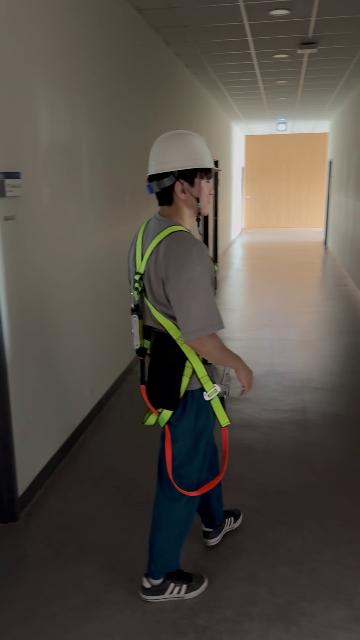helmet_worn: (145, 129, 222, 175)
shoe_not_worn: (140, 569, 207, 601), (203, 509, 242, 547)
vest_worn: (129, 223, 237, 491)
